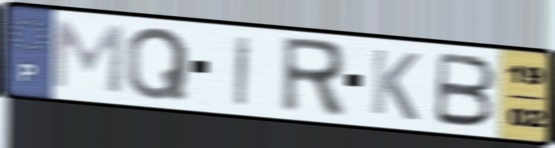B: (430, 50, 499, 130)
I: (232, 33, 255, 109)
K: (368, 46, 422, 124)
M: (48, 18, 127, 97)
Q: (123, 25, 192, 102)
R: (277, 34, 348, 120)
